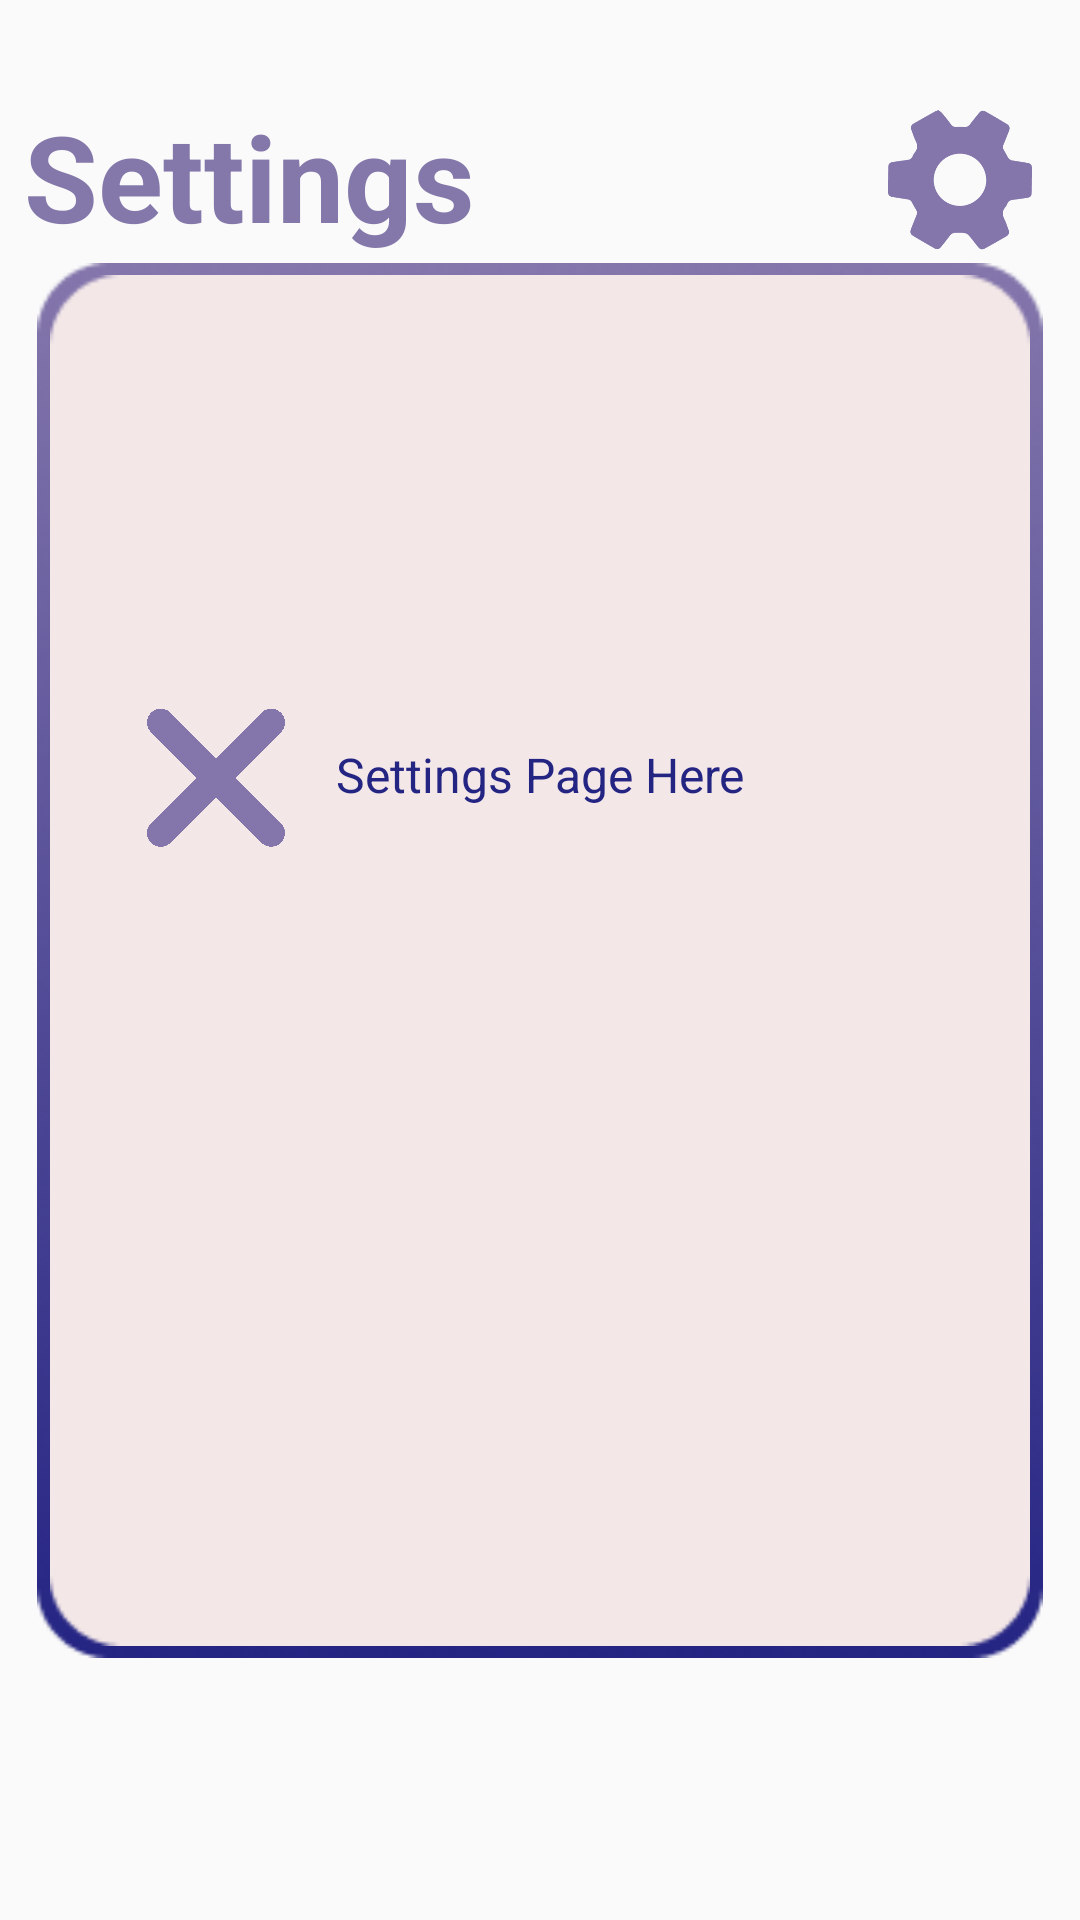

Point at icon controls on the screen. Image size 1080×1920, points as (x=x, y=y).
Close Settings: (x=216, y=778)
Settings Button: (x=960, y=180)
